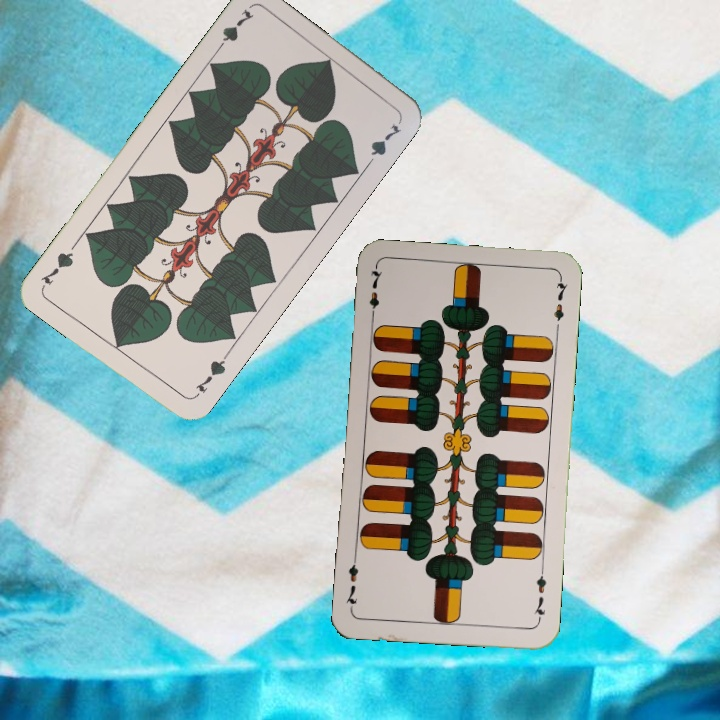E7: (365, 264, 385, 323), (530, 565, 549, 624)
G7: (211, 5, 257, 56), (189, 350, 231, 401)
